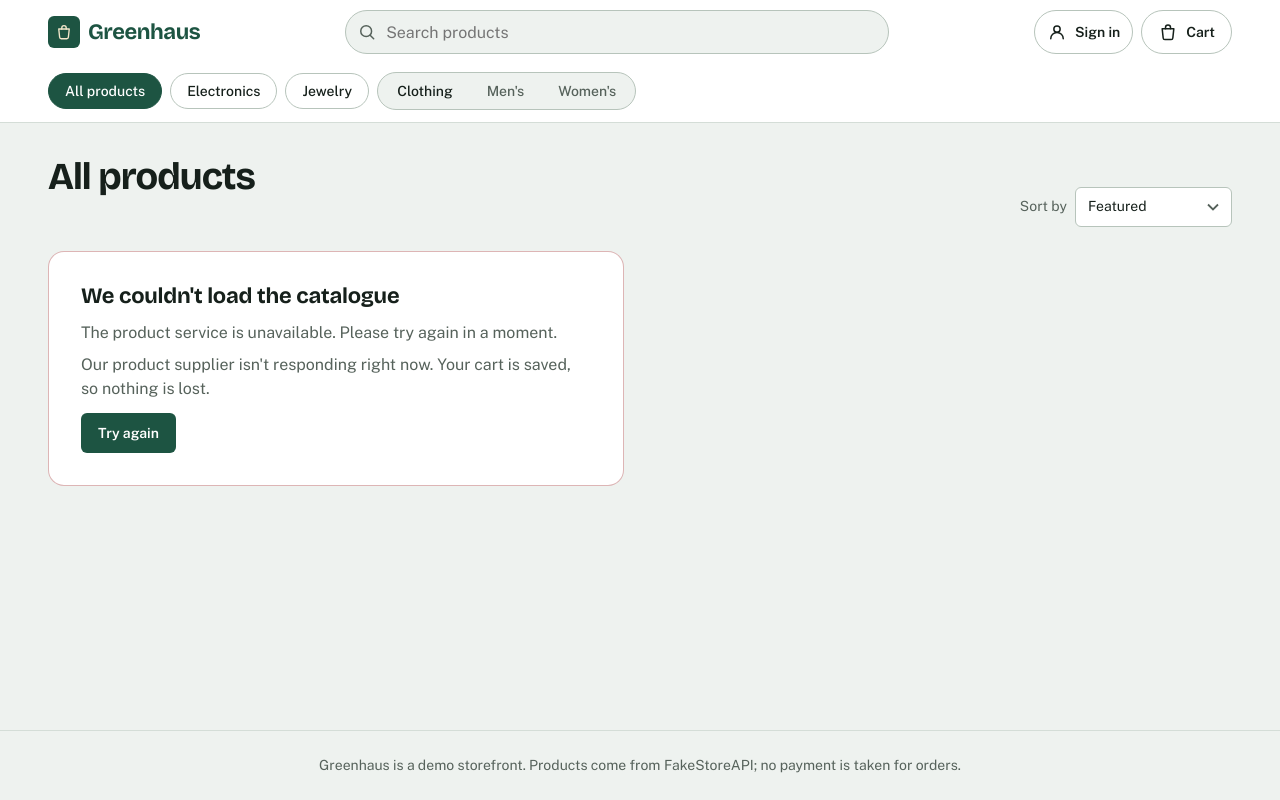
it: catalogue › shows a recoverable error when the API fails, then retries
Expected: the heading "We couldn't load the catalogue" is shown, [81, 284, 399, 309]
Expected: the text "The product service is unavailable. Please try again in a moment." is shown, [81, 321, 591, 345]
Click the button "Try again" at (128,433), box [81, 413, 176, 453]
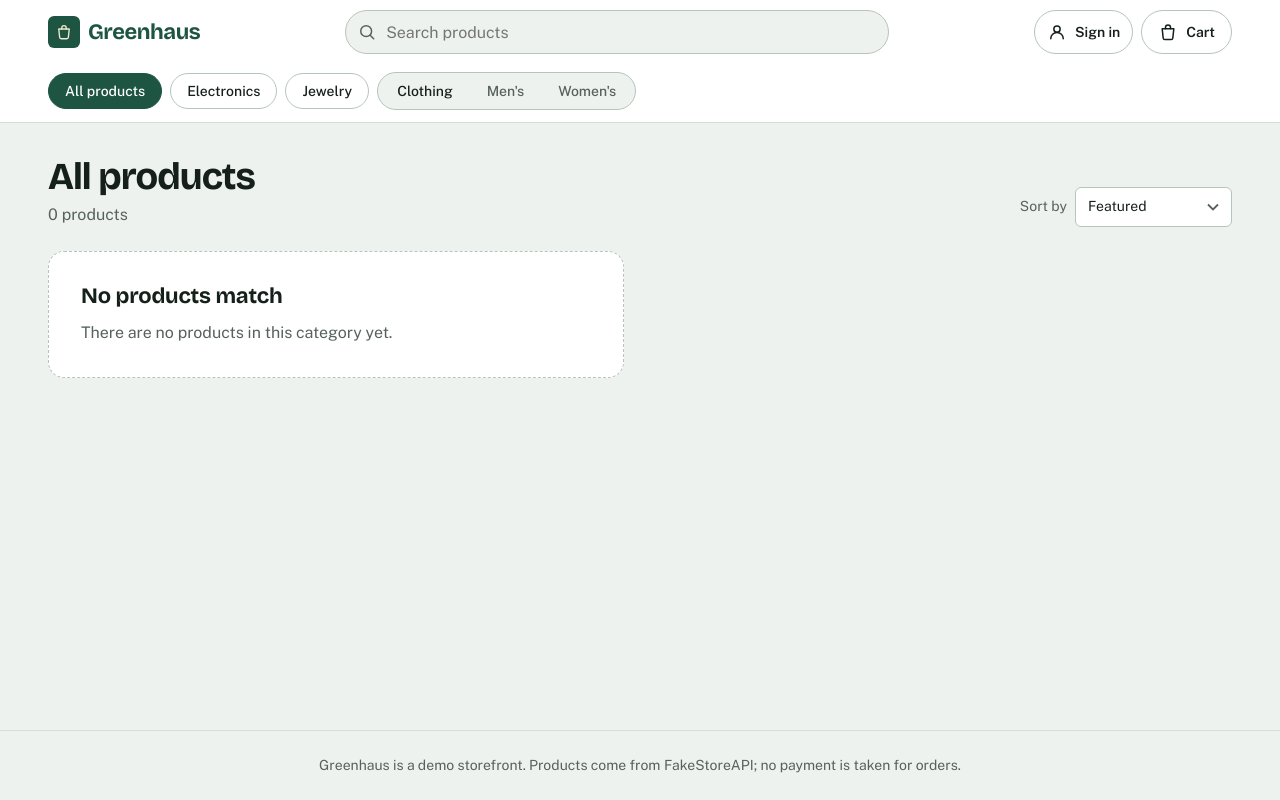
Now the heading "No products match" is shown, box [81, 284, 282, 309]
